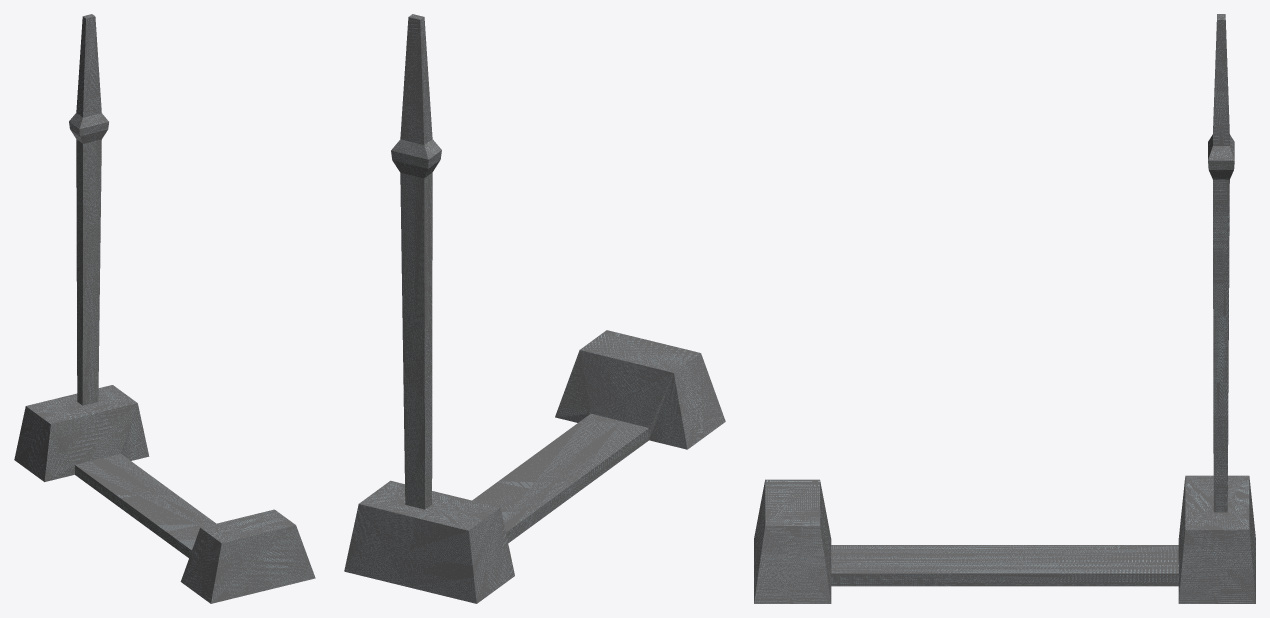
Rendered from Rail_Track_Switch_01.fbx.
The picture shows the model from 3 angles, left to right: view 1: azimuth 30°, elevation 25°; view 2: azimuth 150°, elevation 25°; view 3: azimuth 270°, elevation 25°; orthographic projection. The views are drawn at different scales.
Visible parts, largest first — view 1: Model; view 2: Model; view 3: Model.
Boxes of the visible parts, left/top/right/bottom form: Model: left=14, top=14, right=315, bottom=603; Model: left=344, top=14, right=725, bottom=603; Model: left=754, top=14, right=1255, bottom=603.
Bounding box in the file's own units: 100 × 400 × 325.
